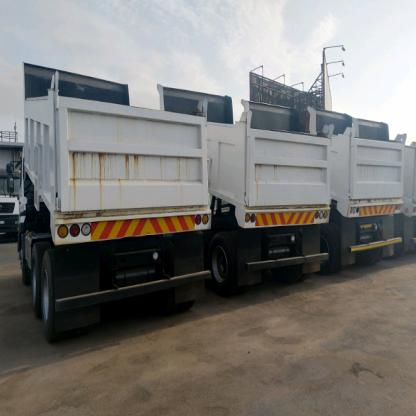dump_truck: (8, 53, 214, 345), (212, 86, 332, 300), (330, 107, 416, 279)
